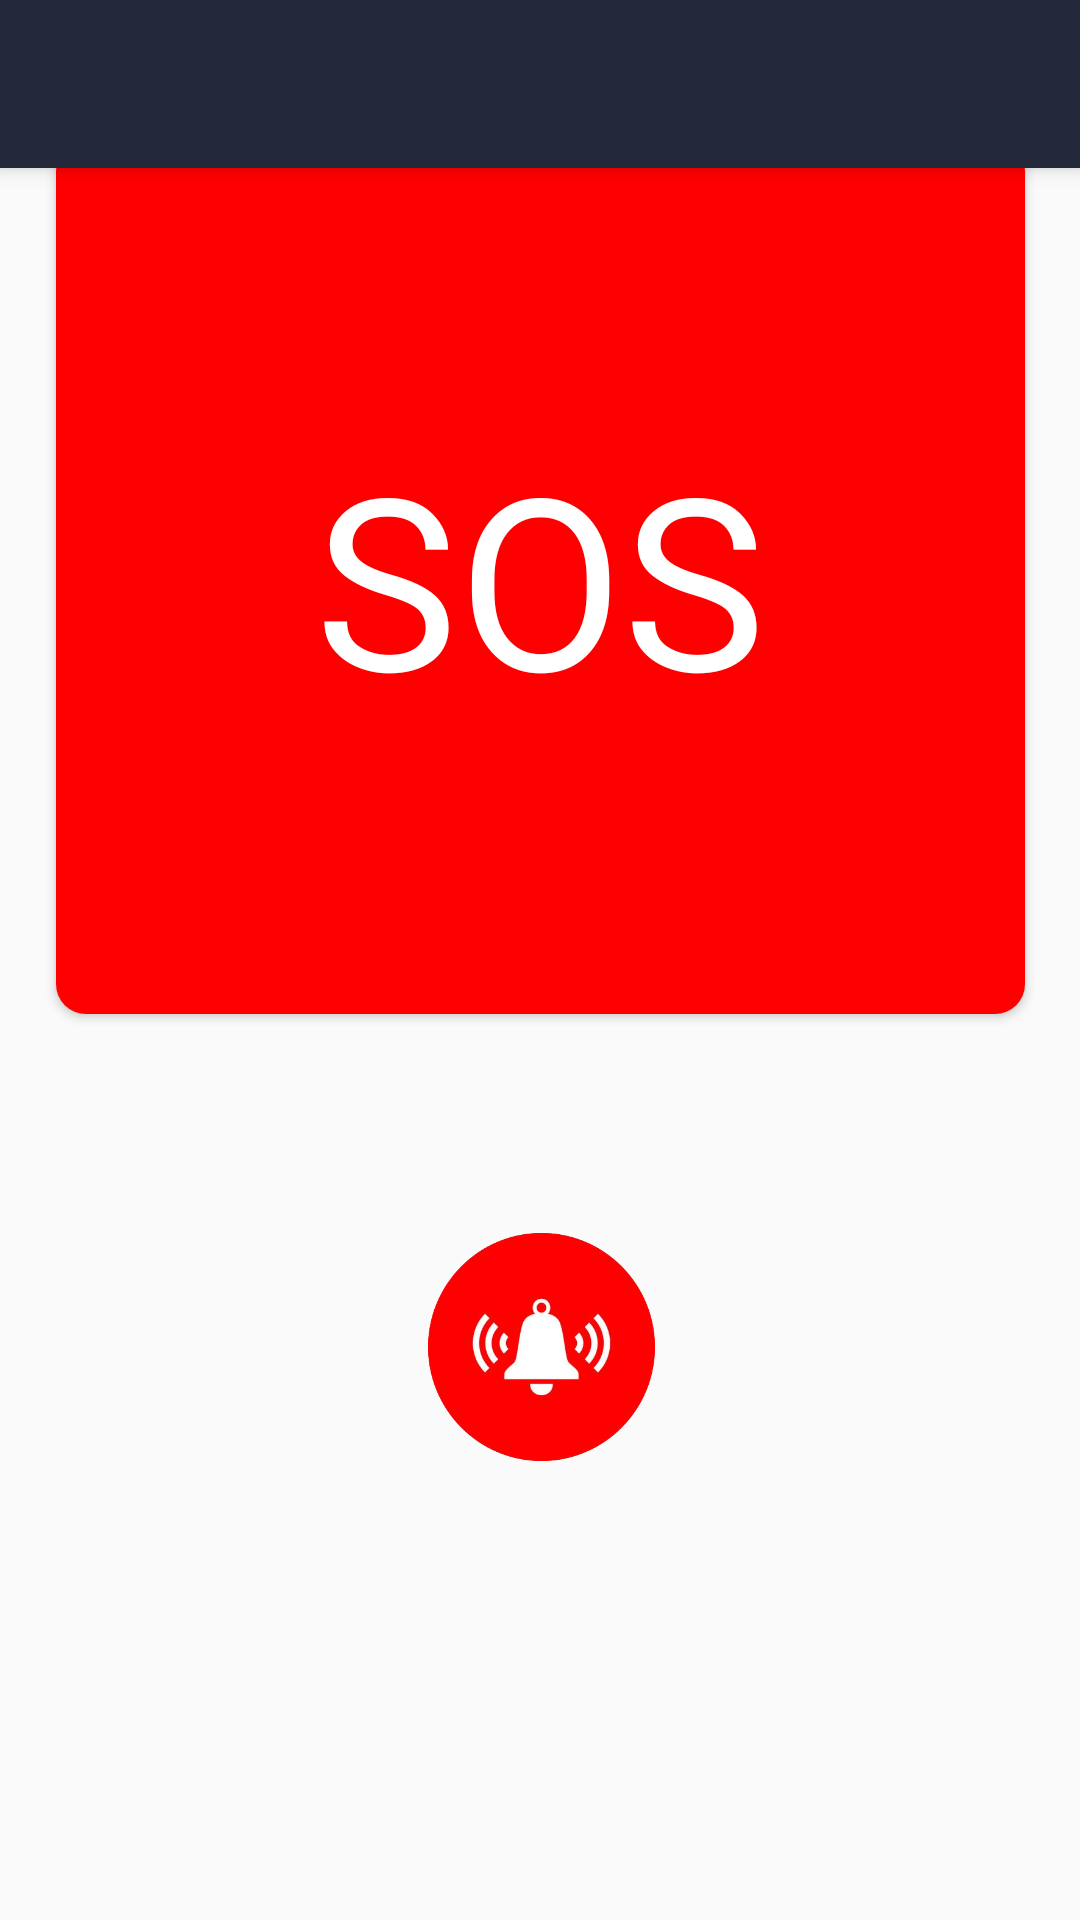

Icons on this 1080px x 1920px Android screen, each with the point to tap as [x,y]:
siren: [541,1347]
